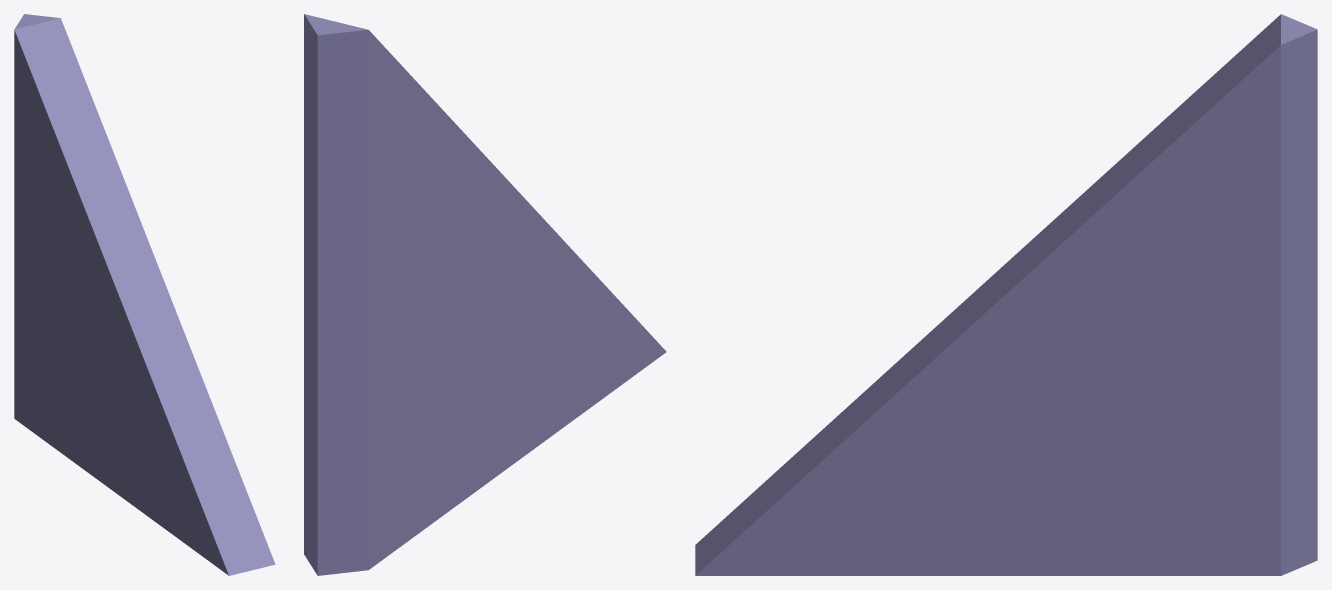
The model's file is Slanted.fbx.
The picture shows the model from 3 angles, left to right: view 1: azimuth 30°, elevation 25°; view 2: azimuth 150°, elevation 25°; view 3: azimuth 270°, elevation 25°; orthographic projection. The views are drawn at different scales.
Visible parts, largest first — view 1: wall_slope; view 2: wall_slope; view 3: wall_slope.
Boxes of the visible parts, x1=… form: wall_slope: x1=14, y1=14, x2=275, y2=575; wall_slope: x1=304, y1=14, x2=666, y2=575; wall_slope: x1=695, y1=14, x2=1317, y2=575.
Size of the model in its own units: 1.25 by 10 by 10.63.
